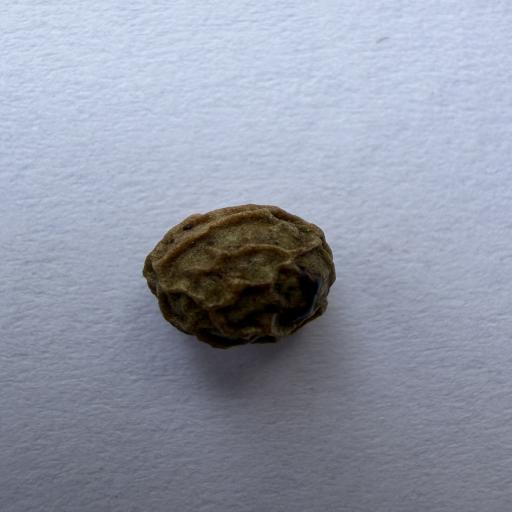Black_pepper: (118, 188, 370, 360)
